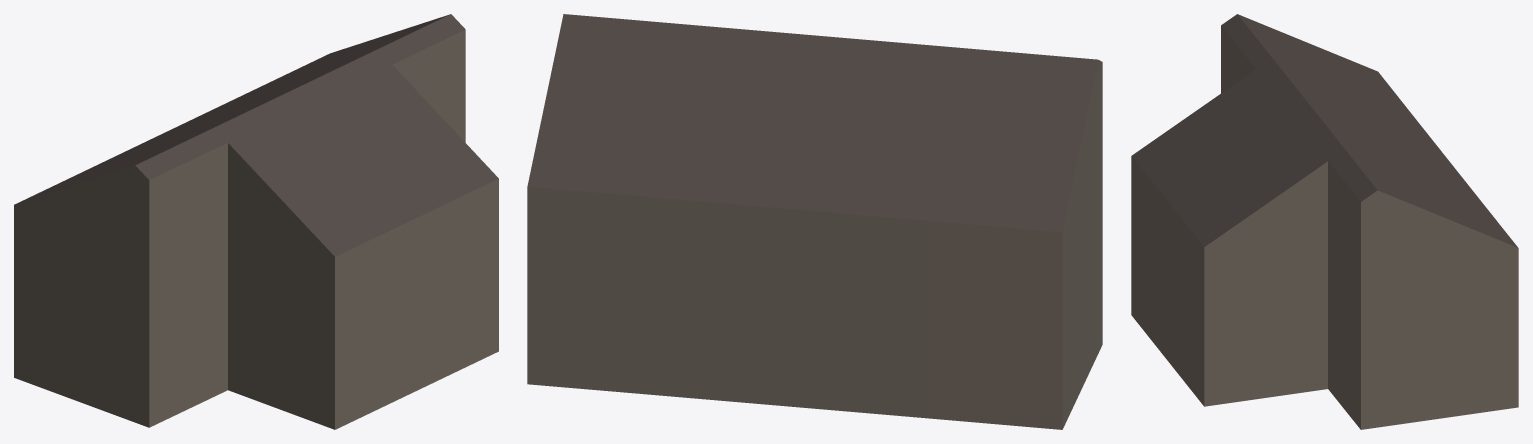
The picture shows the model from 3 angles, left to right: view 1: azimuth 30°, elevation 25°; view 2: azimuth 150°, elevation 25°; view 3: azimuth 270°, elevation 25°; orthographic projection. The views are drawn at different scales.
Visible parts, largest first — view 1: HP-w858807439; view 2: HP-w858807439; view 3: HP-w858807439.
Part boxes in pixels (bbox=[...]): HP-w858807439: bbox=[14, 14, 498, 429]; HP-w858807439: bbox=[527, 14, 1102, 429]; HP-w858807439: bbox=[1131, 14, 1518, 429].
Size of the model in its own units: 16.07 by 8.93 by 13.21.
